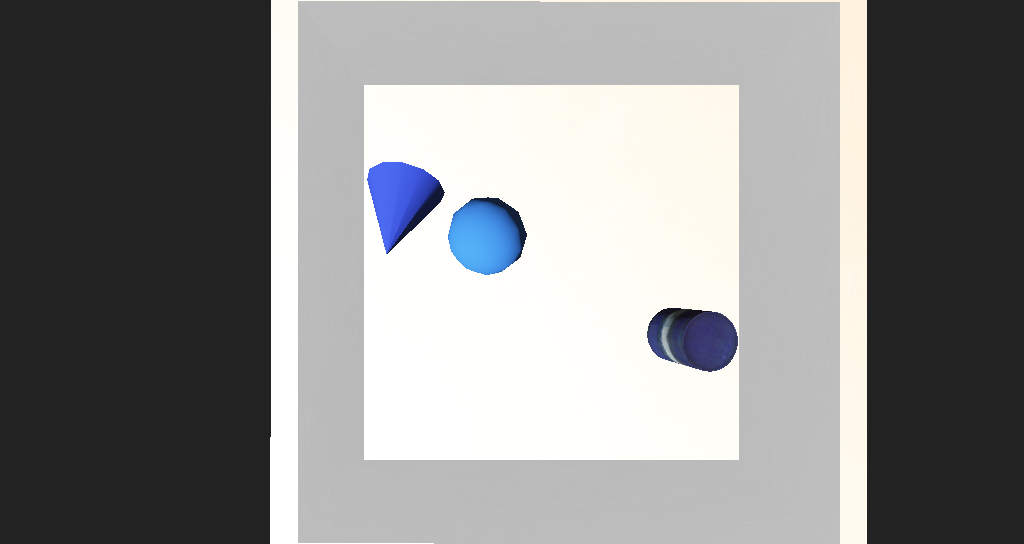cone: (579, 286, 647, 324)
cylinder: (330, 203, 424, 274)
sphere: (418, 227, 485, 270)
